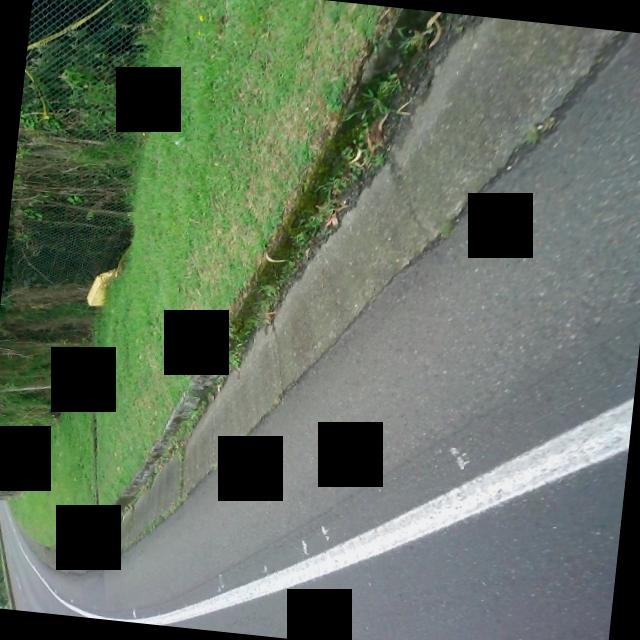DITCH: (0, 0, 640, 629), (13, 0, 640, 640)
